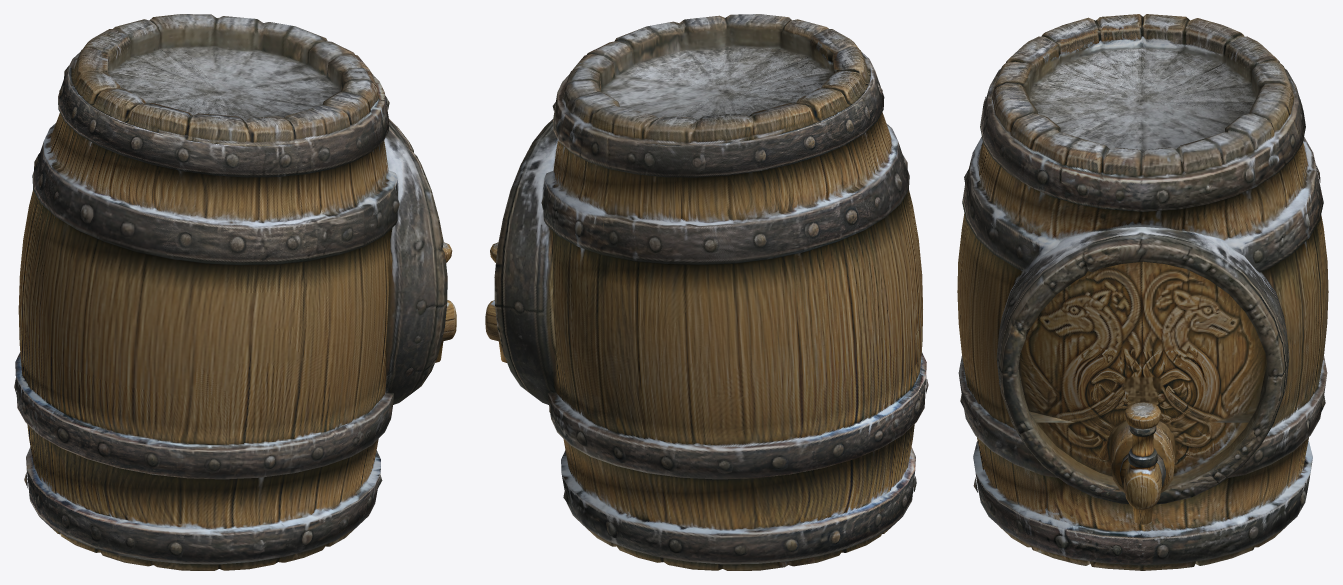
File: SM_Env_HeorotMeadBarrel.fbx
3 renders of one model, left to right at view 1: azimuth 30°, elevation 25°; view 2: azimuth 150°, elevation 25°; view 3: azimuth 270°, elevation 25°, orthographic.
Visible parts, largest first — view 1: SM_Env_HeorotMeadBarrel; view 2: SM_Env_HeorotMeadBarrel; view 3: SM_Env_HeorotMeadBarrel.
Boxes of the visible parts, <box> form: SM_Env_HeorotMeadBarrel: <box>14,14,456,570</box>; SM_Env_HeorotMeadBarrel: <box>485,14,928,570</box>; SM_Env_HeorotMeadBarrel: <box>957,14,1328,570</box>.
Bounding box in the file's own units: 26.18 × 20.62 × 27.
Materials: 1 (1 with a texture image).
